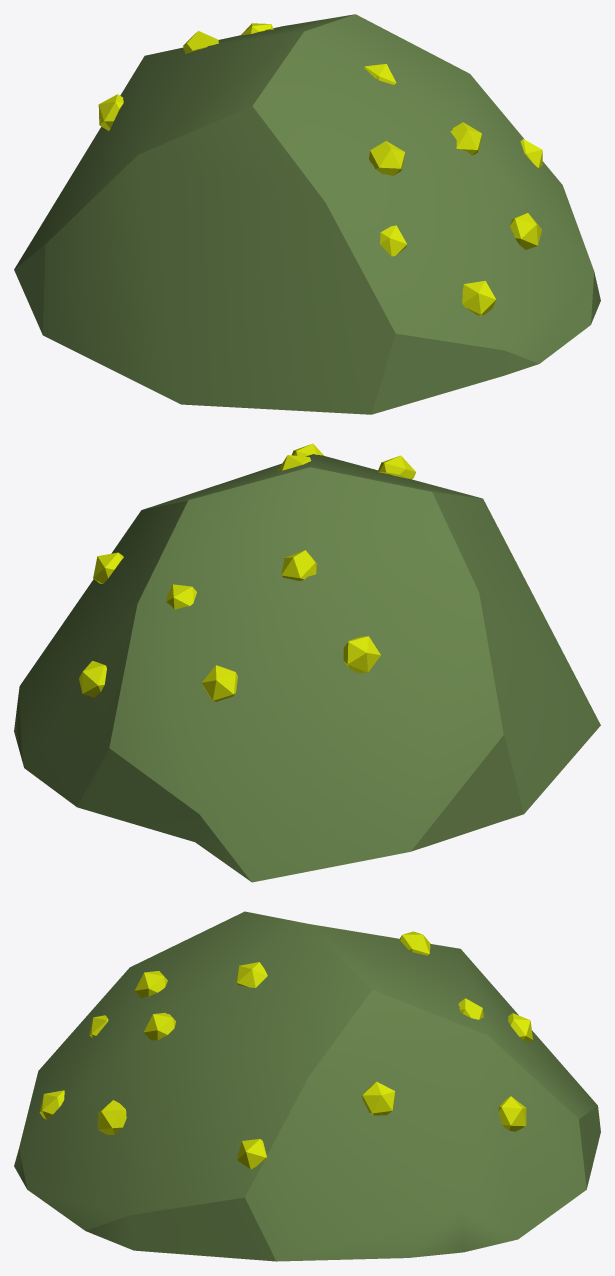
The model's file is shrub2.fbx.
3 views of the same model, one above another, from view 1: azimuth 30°, elevation 25°; view 2: azimuth 150°, elevation 25°; view 3: azimuth 270°, elevation 25° (orthographic). The views are drawn at different scales.
Visible parts, largest first — view 1: F2; view 2: F2; view 3: F2.
Boxes of the visible parts, <box> form: F2: <box>14,14,600,414</box>; F2: <box>14,443,600,882</box>; F2: <box>14,911,600,1261</box>.
Size of the model in its own units: 1.71 by 0.9344 by 1.93.
